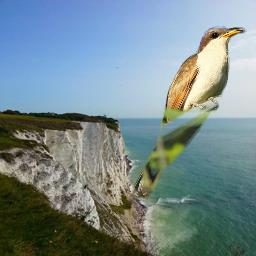Cuckoo: (129, 23, 247, 202)
